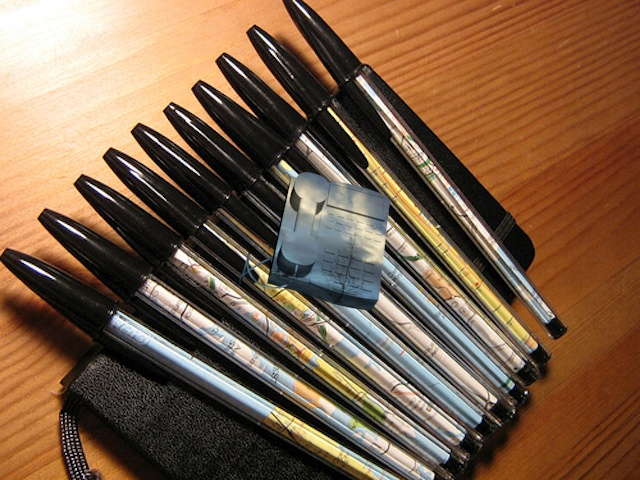phone: (233, 161, 401, 320)
